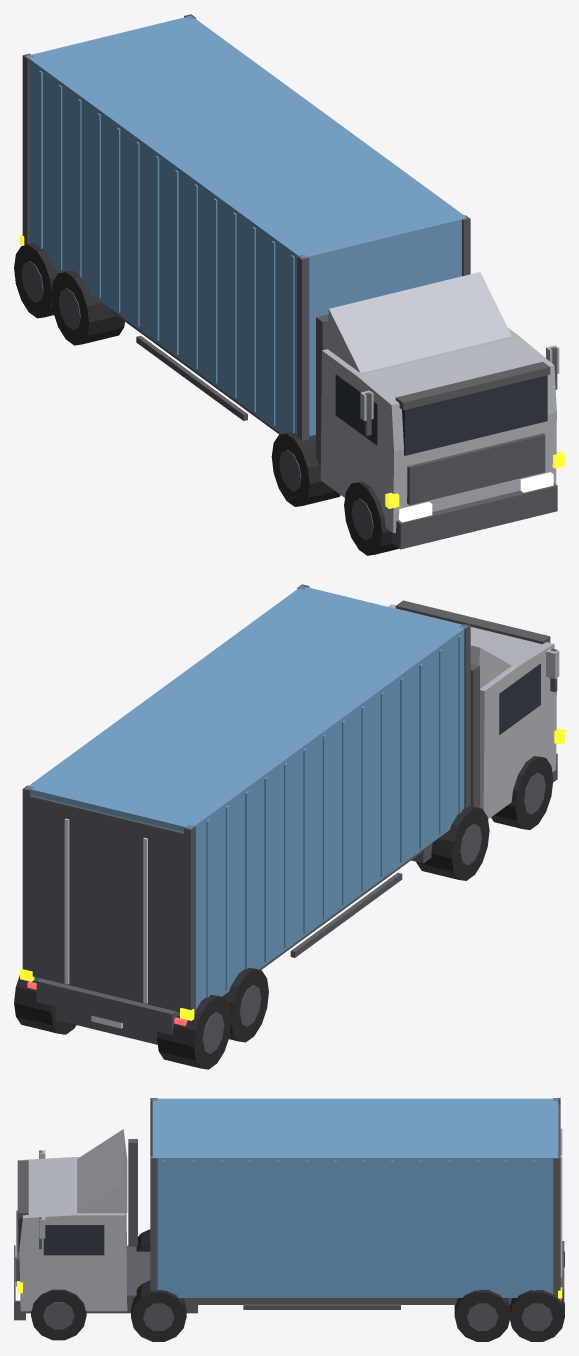
File: traffic_container.glb
3 renders of one model, top to bottom at view 1: azimuth 30°, elevation 25°; view 2: azimuth 150°, elevation 25°; view 3: azimuth 270°, elevation 25°, orthographic. The views are drawn at different scales.
Visible parts, largest first — view 1: TrafficContainer; view 2: TrafficContainer; view 3: TrafficContainer.
Boxes of the visible parts, box(x1,y1,x2,y2) form: TrafficContainer: box(14, 14, 559, 555); TrafficContainer: box(14, 584, 559, 1069); TrafficContainer: box(14, 1098, 564, 1341).
Bounding box in the file's own units: 2.73 × 3.3 × 9.1.
